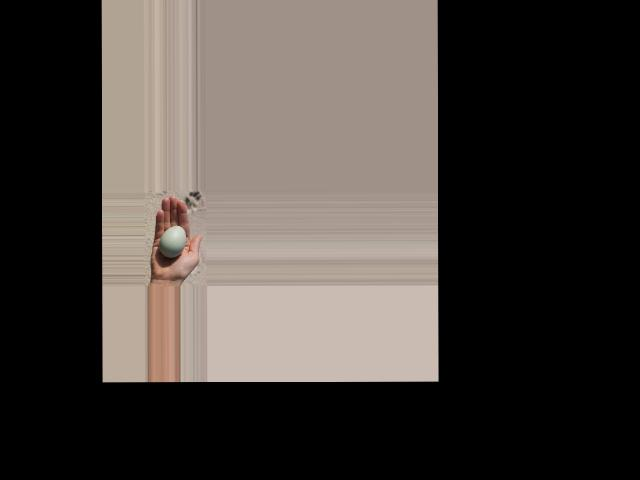egg: (158, 224, 185, 256)
